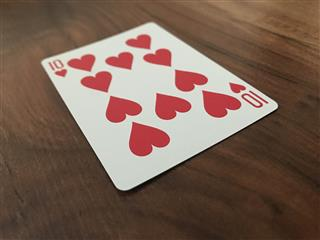TenOfHearts: (39, 20, 279, 190)
